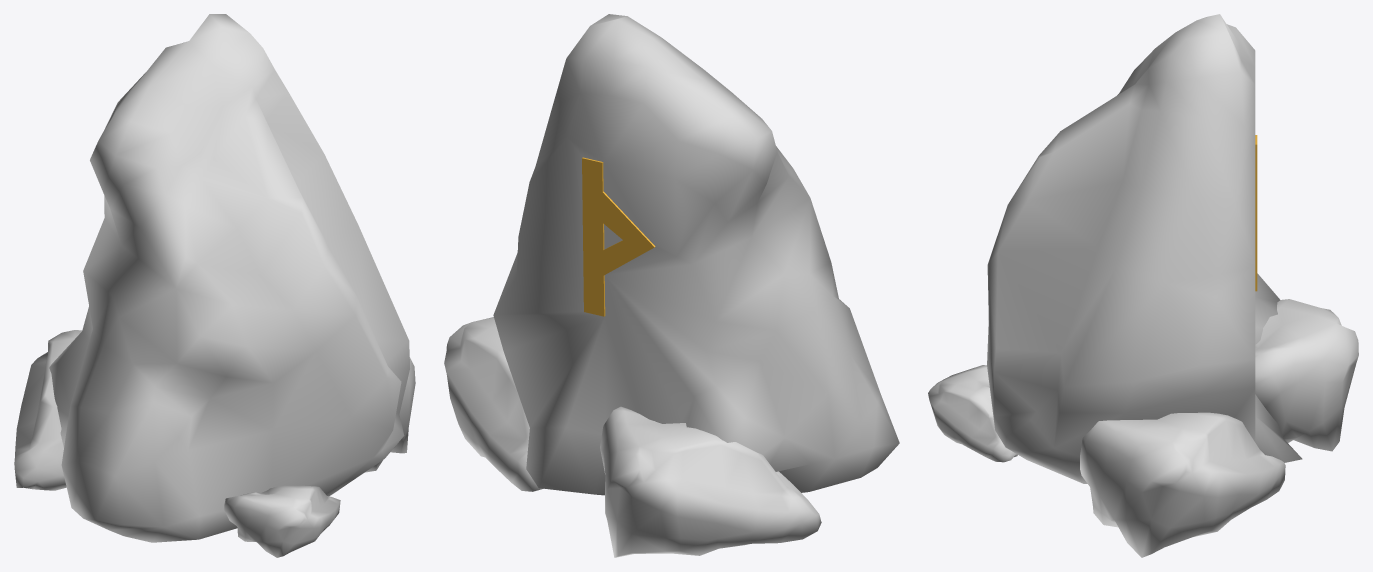
The model's file is Thurisaz.fbx.
The picture shows the model from 3 angles, left to right: view 1: azimuth 30°, elevation 25°; view 2: azimuth 150°, elevation 25°; view 3: azimuth 270°, elevation 25°; orthographic projection. The views are drawn at different scales.
Parts seen in each view (by area): view 1: stone; view 2: stone, Thurisaz; view 3: stone.
Boxes of the visible parts, box(x1,y1,x2,y2) form: stone: box(14, 14, 415, 557); stone: box(444, 14, 899, 557); Thurisaz: box(582, 157, 655, 316); stone: box(928, 14, 1358, 557).
Bounding box in the file's own units: 155 × 181 × 152.
